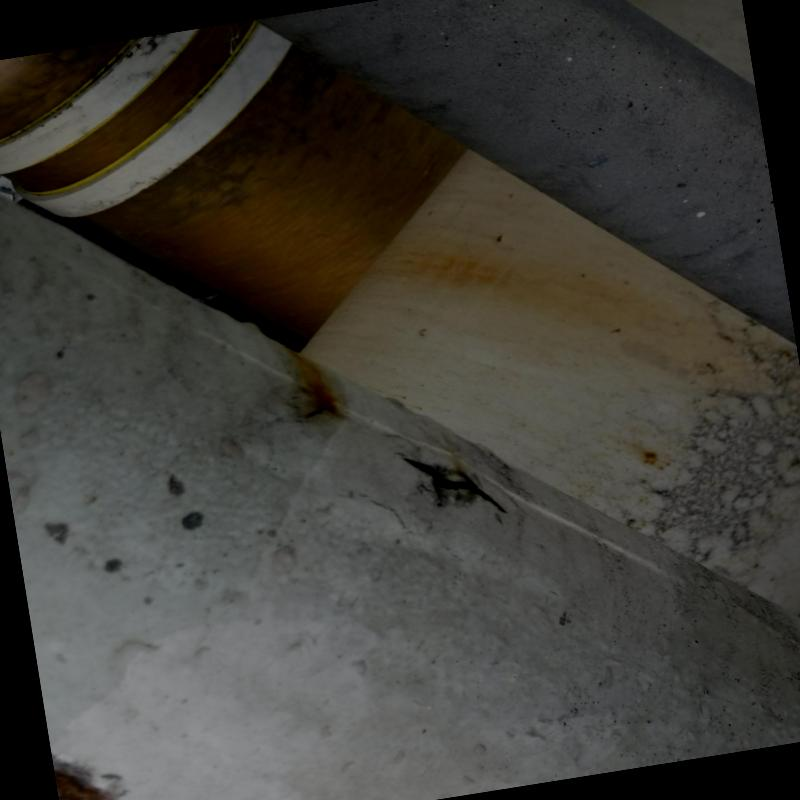corrosion: (402, 434, 522, 522)
